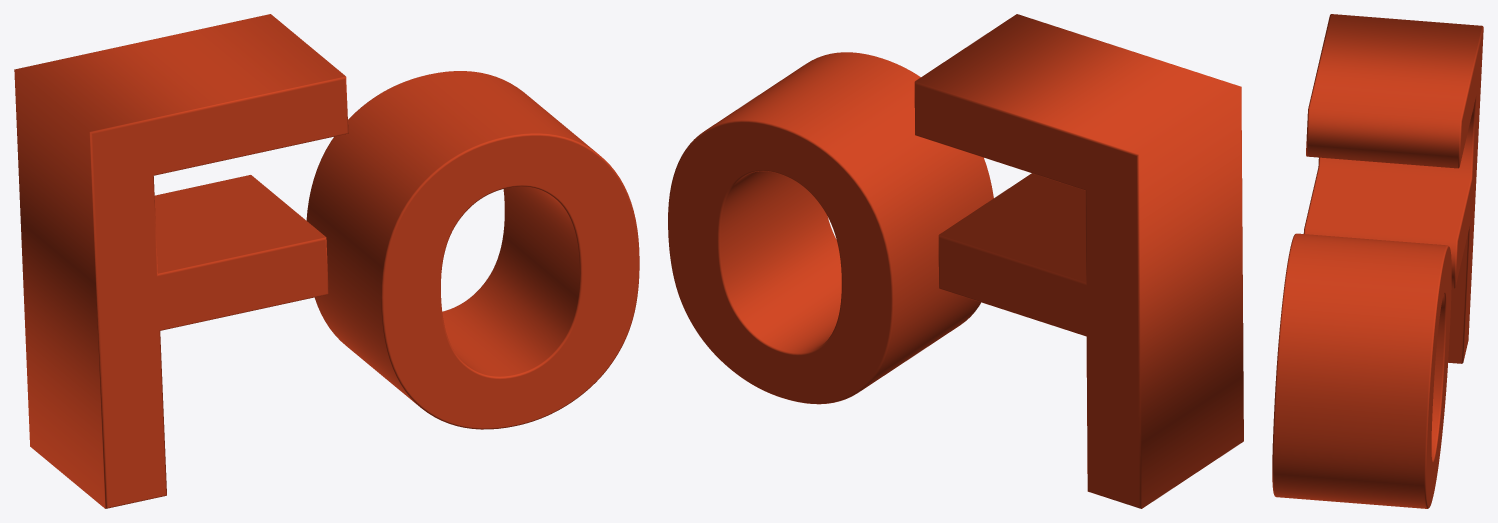
3 views of the same model, side by side, from view 1: azimuth 30°, elevation 25°; view 2: azimuth 150°, elevation 25°; view 3: azimuth 270°, elevation 25° (orthographic). The views are drawn at different scales.
Visible parts, largest first — view 1: Text; view 2: Text; view 3: Text.
Part boxes in pixels (x1=…): Text: x1=14, y1=14, x2=639, y2=508; Text: x1=668, y1=14, x2=1243, y2=508; Text: x1=1272, y1=14, x2=1483, y2=508.
Bounding box in the file's own units: 204 × 141 × 83.85.
